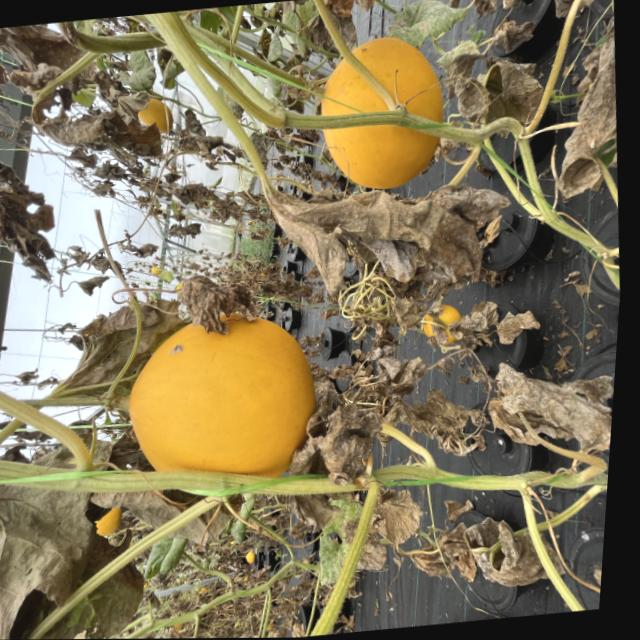bacterial wilt: (266, 164, 508, 288), (0, 481, 122, 640), (476, 348, 616, 475), (49, 289, 175, 404), (556, 44, 625, 176), (404, 364, 488, 460), (0, 142, 57, 268), (455, 507, 536, 587), (447, 65, 538, 134), (355, 487, 417, 577), (175, 256, 247, 324), (404, 525, 480, 584), (40, 95, 121, 147), (311, 409, 374, 473), (108, 125, 162, 182), (360, 355, 422, 399), (380, 283, 438, 327), (283, 493, 334, 533), (175, 184, 211, 217), (177, 116, 208, 152)
